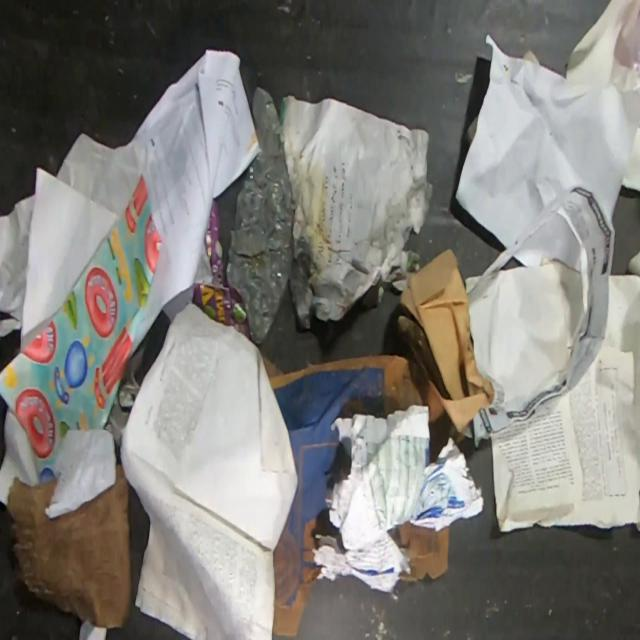cardboard: (261, 355, 450, 639), (386, 520, 450, 582)
rigid_plastic: (227, 86, 294, 345)
